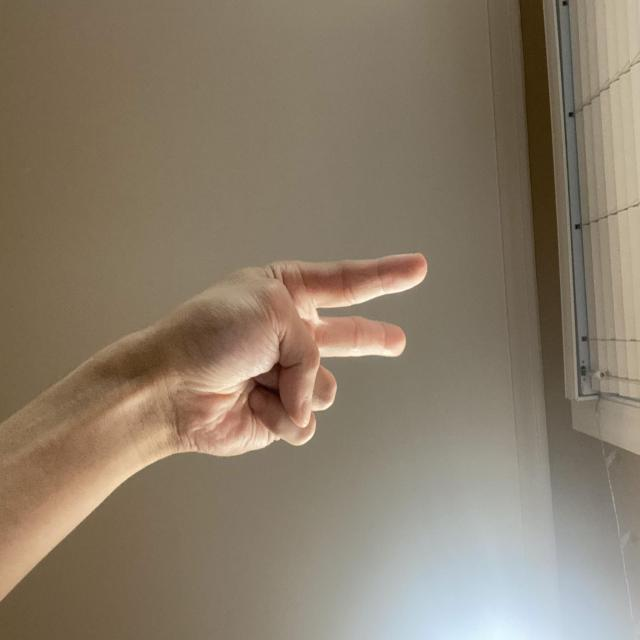V: (340, 274, 513, 640)
